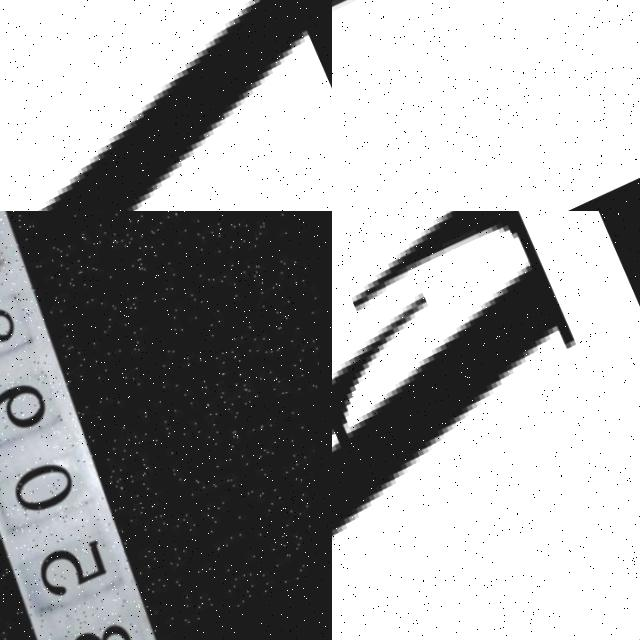0: (0, 440, 106, 534)
1: (332, 0, 640, 174)
3: (52, 598, 164, 640)
5: (22, 517, 141, 619)
7: (0, 0, 332, 211)
8: (0, 287, 45, 374)
9: (0, 360, 78, 457)
F: (332, 211, 640, 640)
